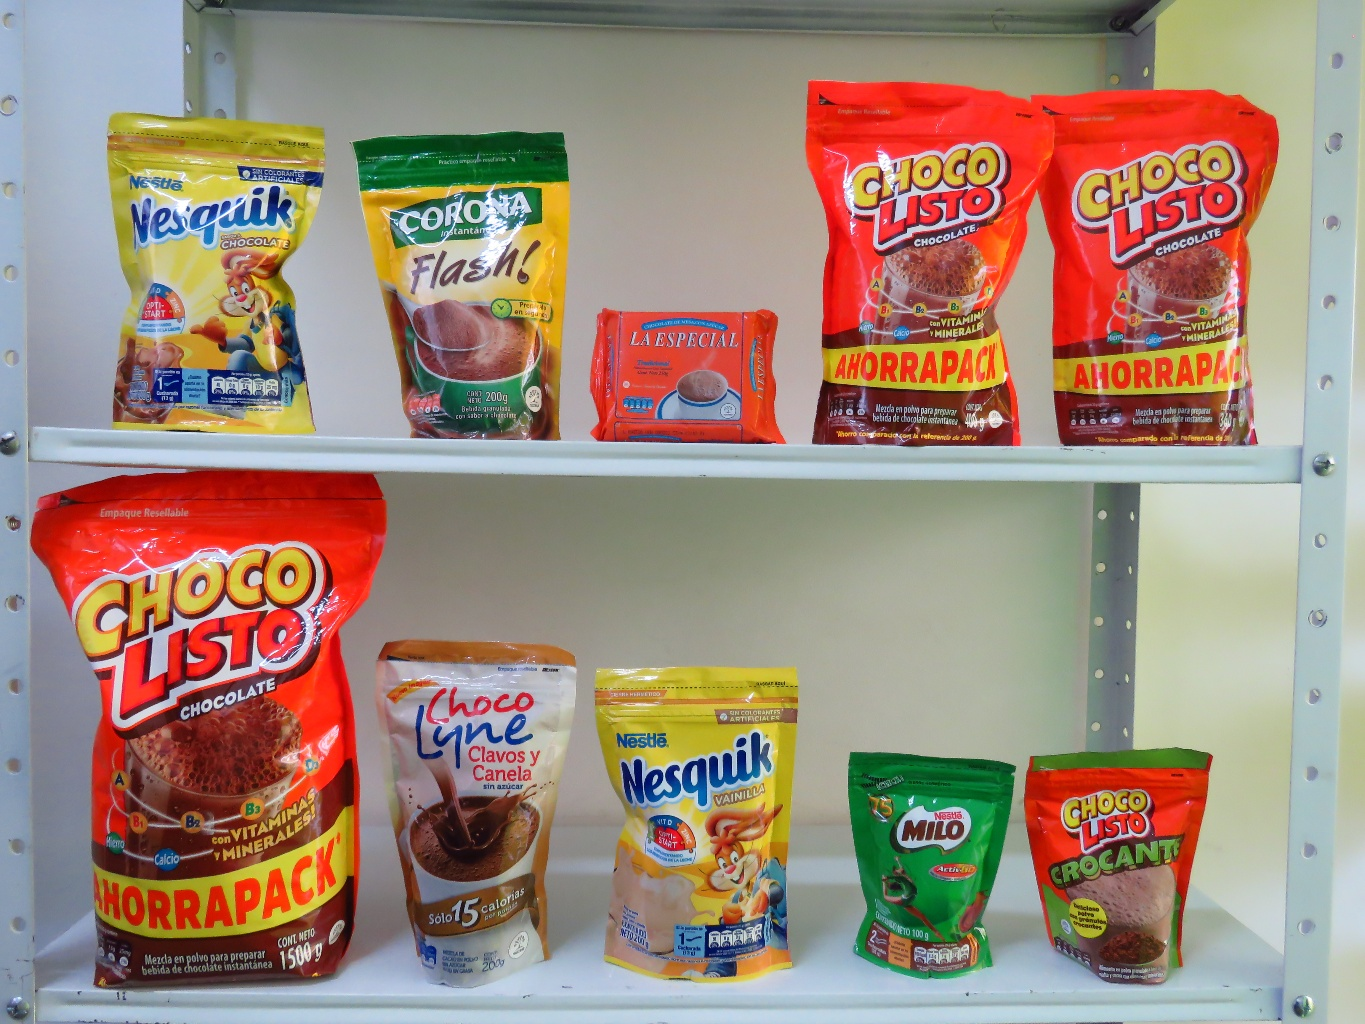COL0170102DYP10000: (1013, 741, 1231, 987)
COL0170103DYP1,500: (2, 438, 392, 993)
COL0170103DYP36000: (1018, 73, 1282, 460)
COL0170103DYP40000: (800, 73, 1060, 455)
COL0170203DYP10000: (829, 736, 1035, 993)
COL0170303DYP20000: (74, 100, 352, 438)
COL0170306DYP20000: (570, 621, 825, 1002)
